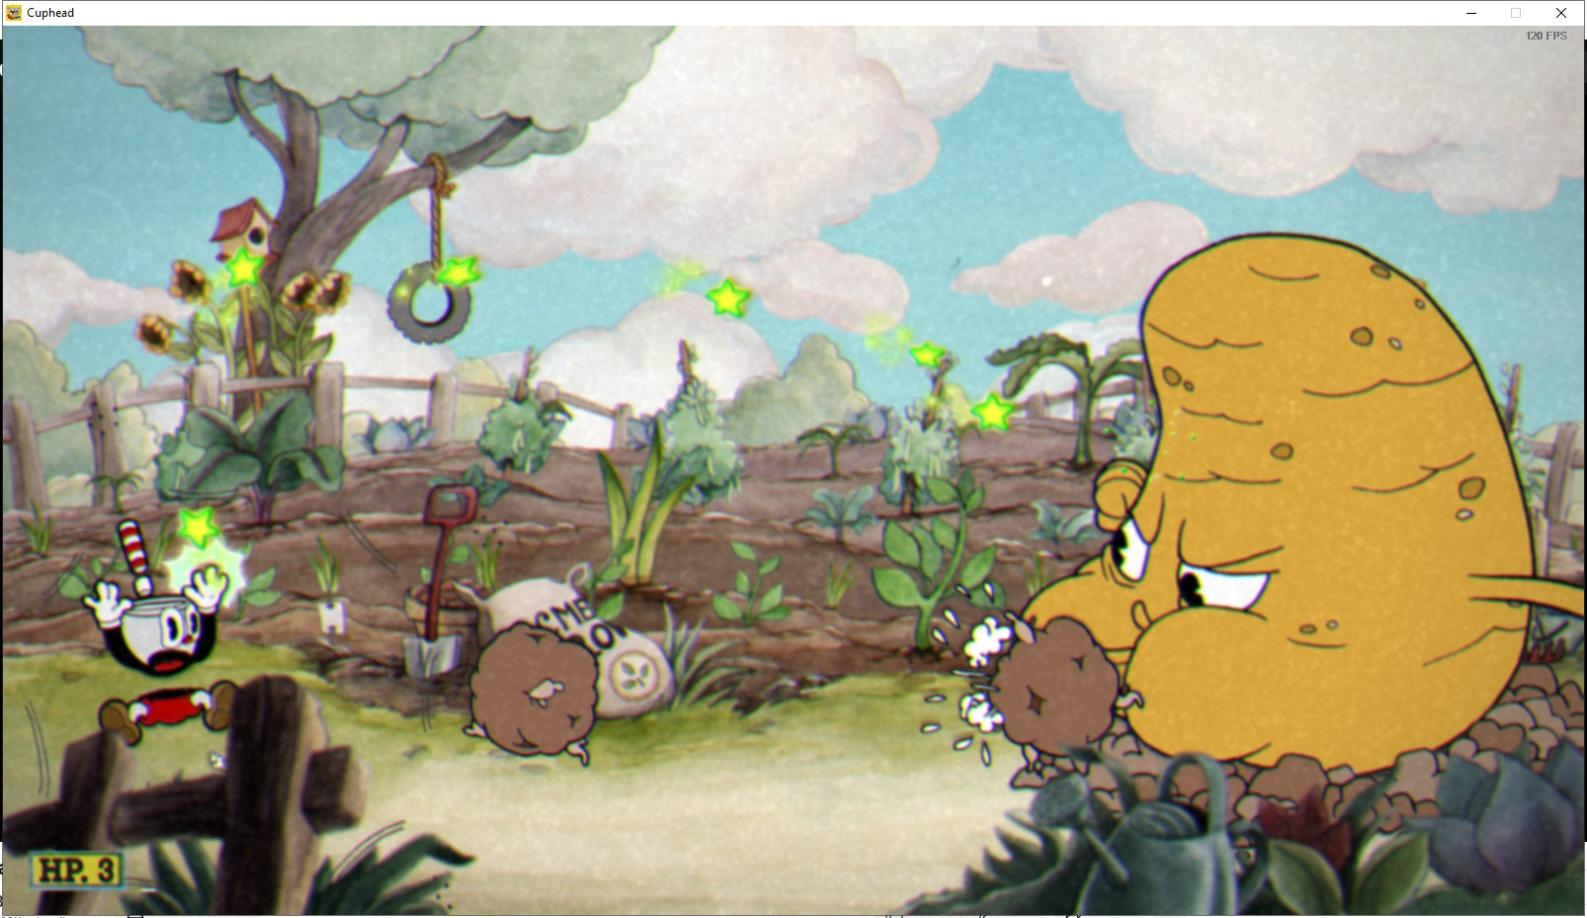dirt: (463, 624, 602, 766), (975, 623, 1111, 753)
hp3: (94, 852, 124, 891)
player: (80, 509, 242, 759)
potato_boss: (1030, 229, 1519, 775)
